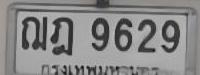2: (137, 18, 155, 52)
6: (114, 17, 132, 51)
9: (160, 19, 179, 52), (91, 17, 108, 50)
A12: (20, 15, 48, 50)
A14: (50, 16, 72, 55)
